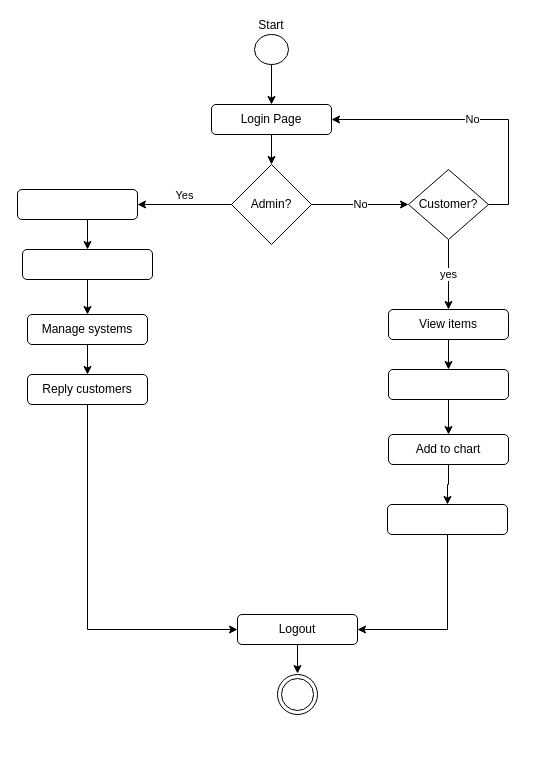
The diagram is 534 pixels wide and 781 high, and some of its shapes have lost their labels. Each missing label, with the centre of its shape:
Add to wishlist: the point at 448,384
Add/modify item: the point at 77,204
End: the point at 297,694
Proceed to payment: the point at 447,519
View orders: the point at 87,264
